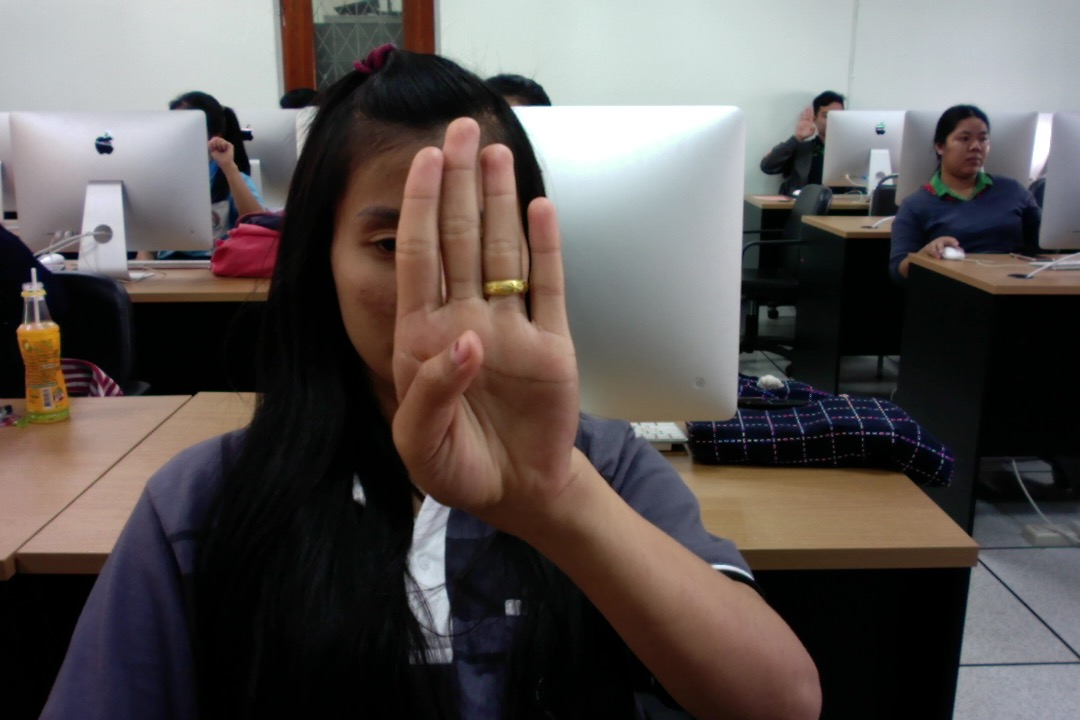bor: (386, 110, 588, 528)
